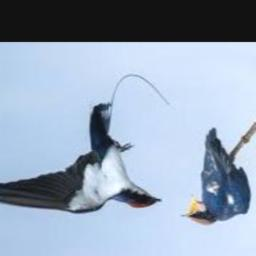Swallow: (0, 103, 162, 215), (182, 129, 250, 226)
